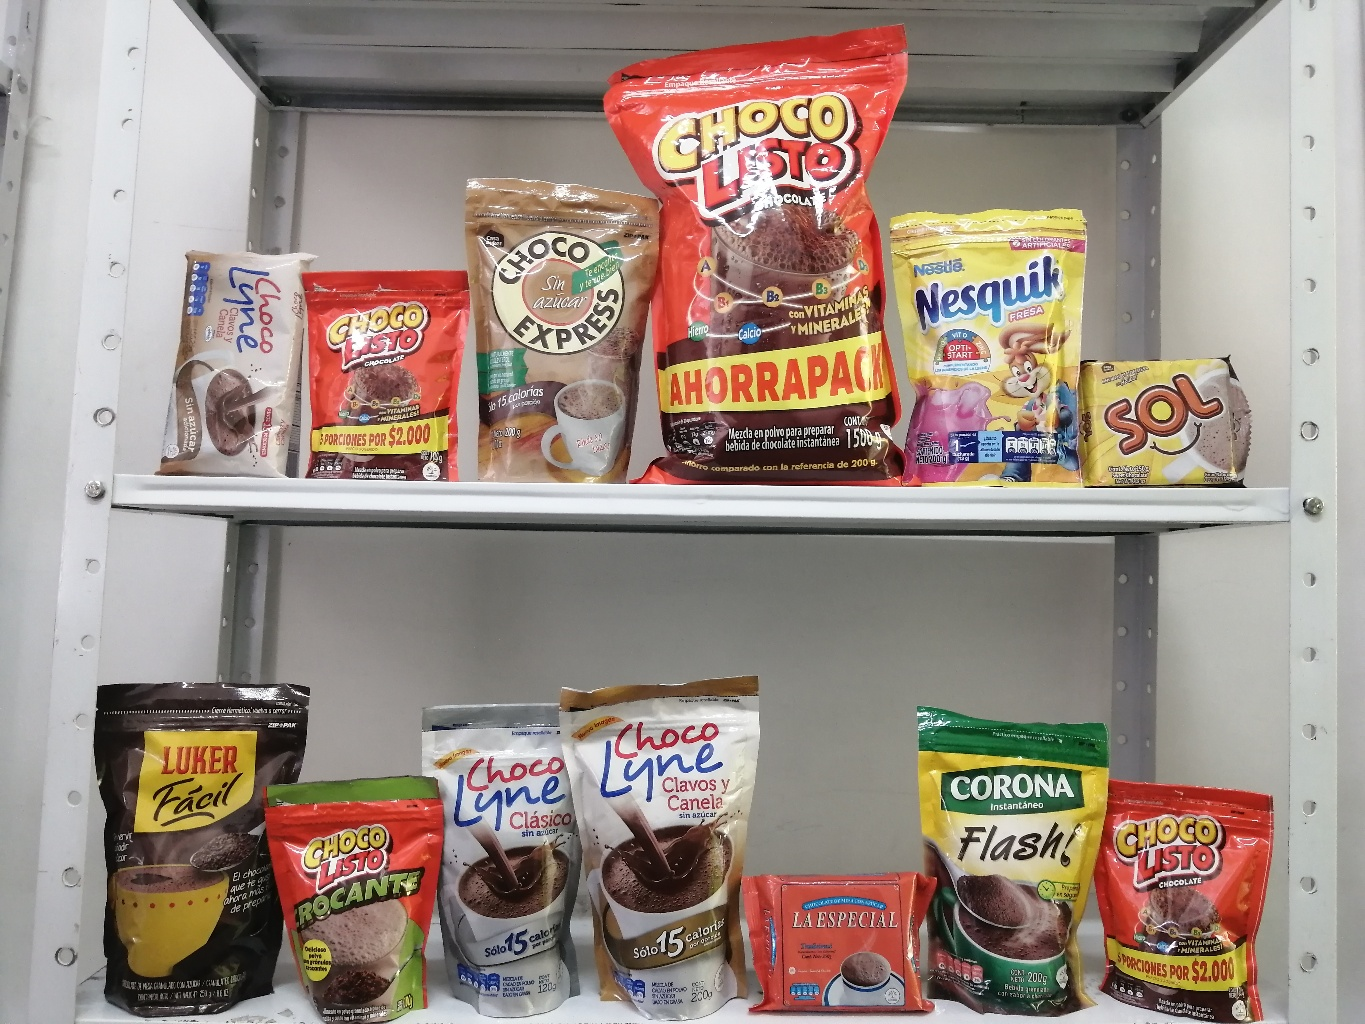COL0170102DYP10000: (234, 748, 457, 1019)
COL0170103DYP1,500: (585, 4, 933, 501)
COL0170305DYP20000: (864, 194, 1121, 501)
